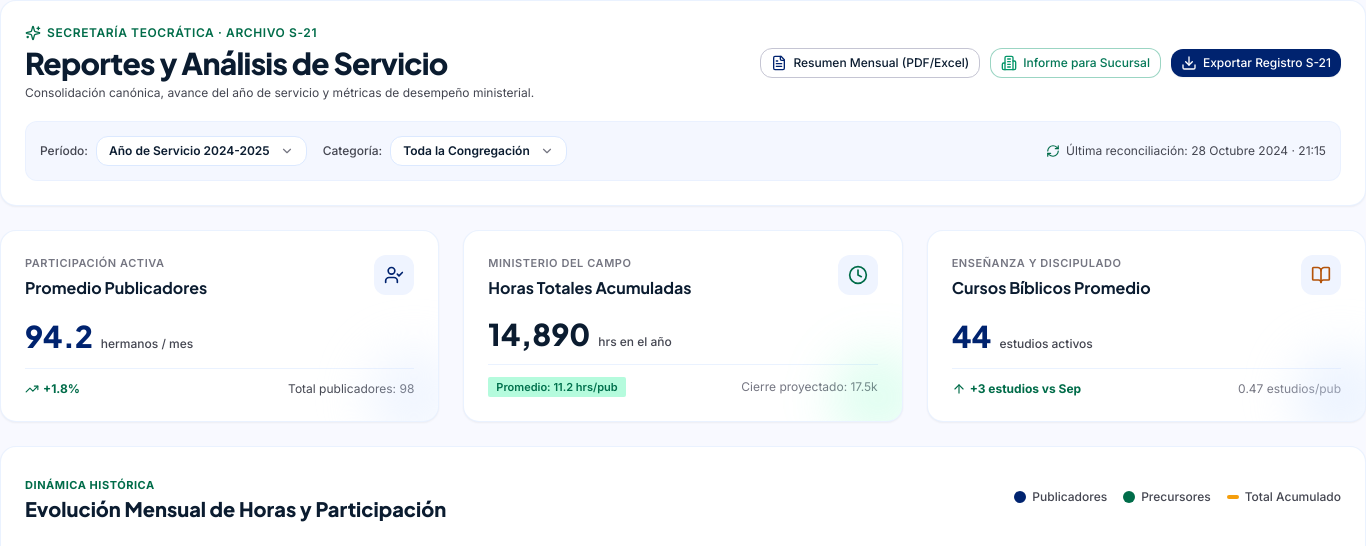
ConsolidatedReportsPage › ejecuta la acción de exportar informe S-21 y muestra mensaje de éxito
Click the button "Exportar Registro S-21": (1256, 63) [1171,49,1341,77]
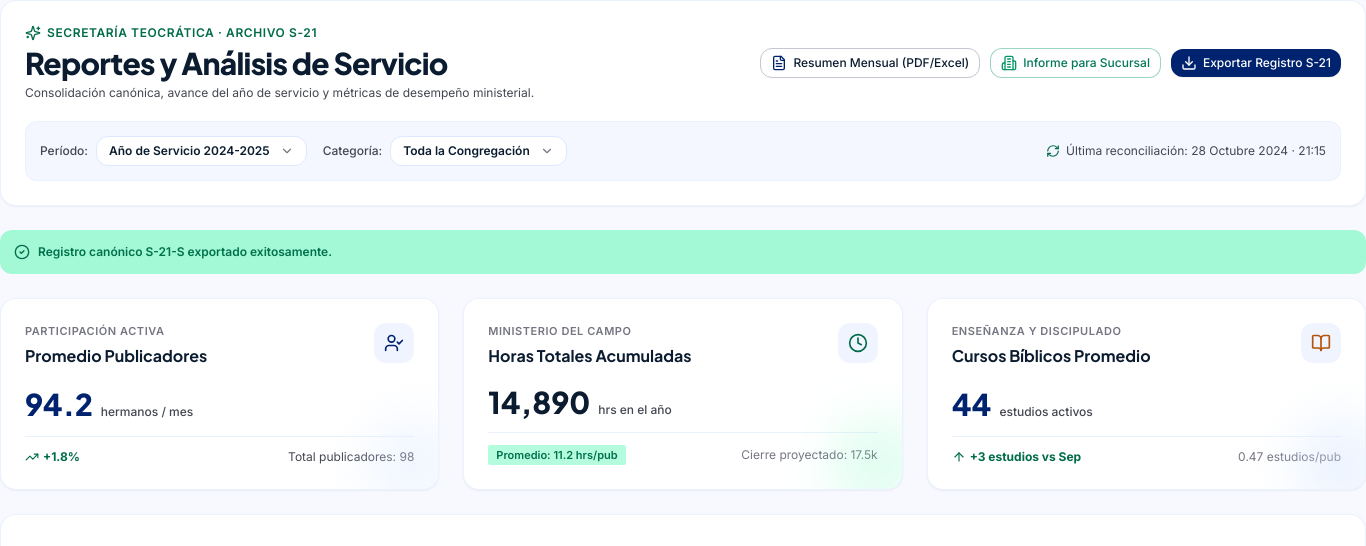
Now the text "Registro canónico S-21-S exportado exitosamente." is shown, box [38,244,332,260]
